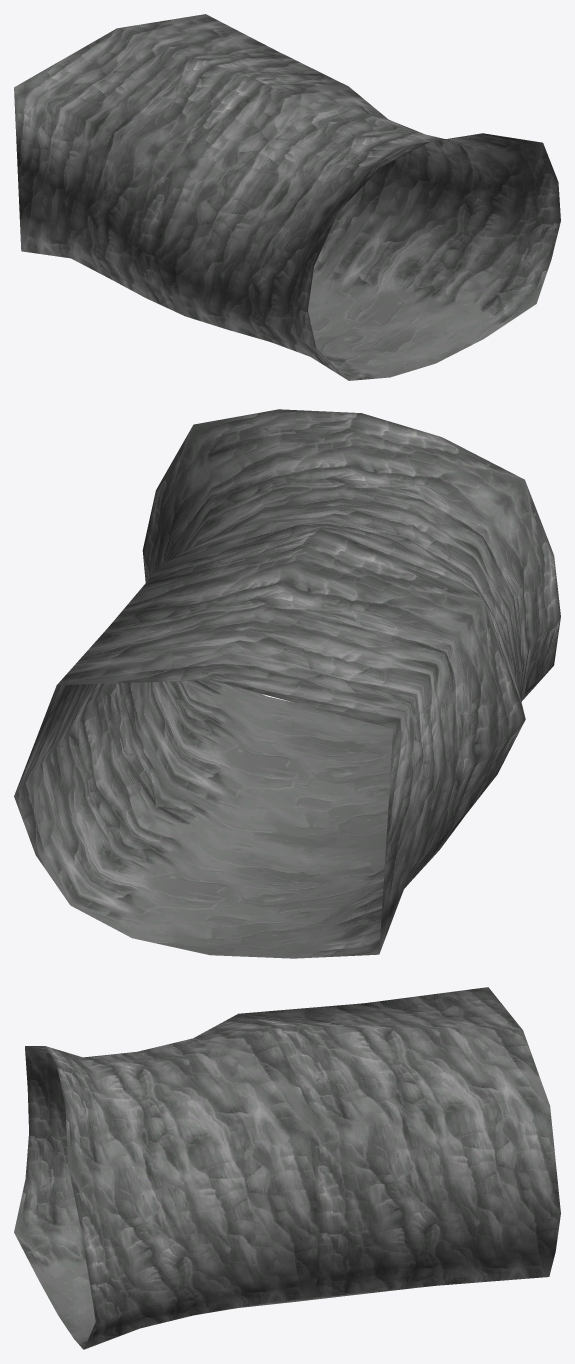
Rendered from SWORDLIGHT20_PS-AREA04_11.fbx.
3 renders of one model, top to bottom at view 1: azimuth 30°, elevation 25°; view 2: azimuth 150°, elevation 25°; view 3: azimuth 270°, elevation 25°, orthographic. The views are drawn at different scales.
Visible parts, largest first — view 1: SWORDLIGHT20_PS-AREA04_11; view 2: SWORDLIGHT20_PS-AREA04_11; view 3: SWORDLIGHT20_PS-AREA04_11.
Boxes of the visible parts, x1,y1,x2,y2 form: SWORDLIGHT20_PS-AREA04_11: (14,14,560,380); SWORDLIGHT20_PS-AREA04_11: (14,409,560,958); SWORDLIGHT20_PS-AREA04_11: (14,987,560,1349).
Size of the model in its own units: 83939 by 51317 by 98797.
Materials: 2 (2 with a texture image).
